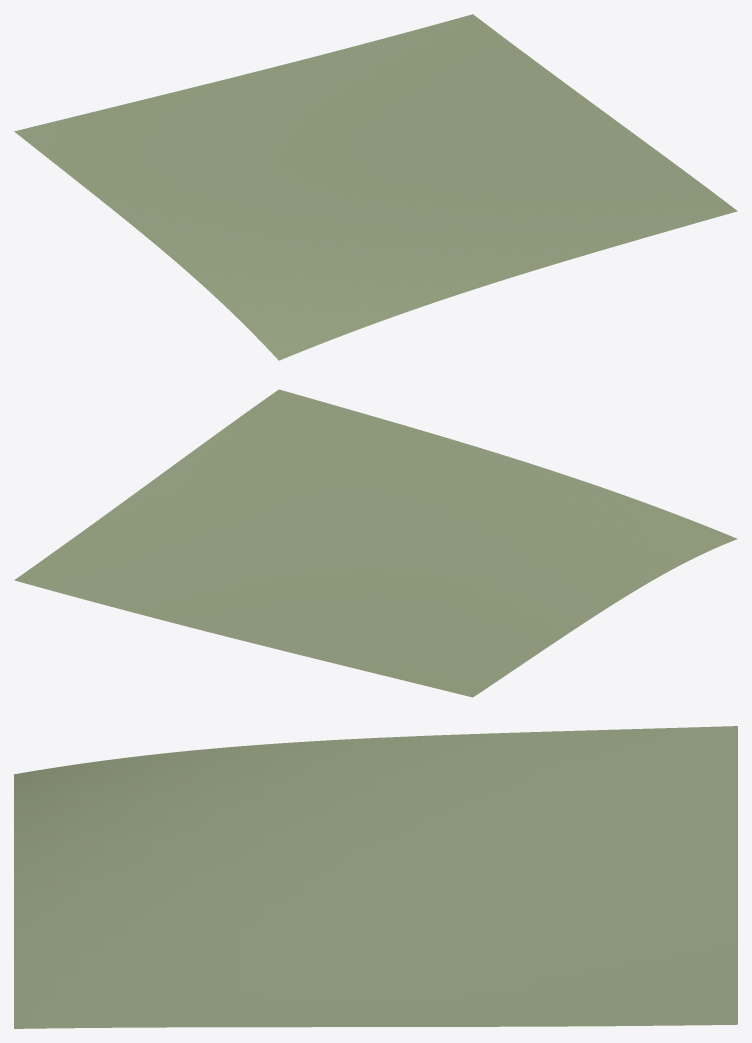
The model's file is expanse-6-5.glb.
3 renders of one model, top to bottom at view 1: azimuth 30°, elevation 25°; view 2: azimuth 150°, elevation 25°; view 3: azimuth 270°, elevation 25°, orthographic. The views are drawn at different scales.
Parts seen in each view (by area): view 1: expanse-6-5; view 2: expanse-6-5; view 3: expanse-6-5.
Boxes of the visible parts, left/top/right/bottom form: expanse-6-5: left=14, top=14, right=737, bottom=360; expanse-6-5: left=14, top=389, right=737, bottom=697; expanse-6-5: left=14, top=726, right=737, bottom=1028.
Bounding box in the file's own units: 256 × 21.64 × 256.
